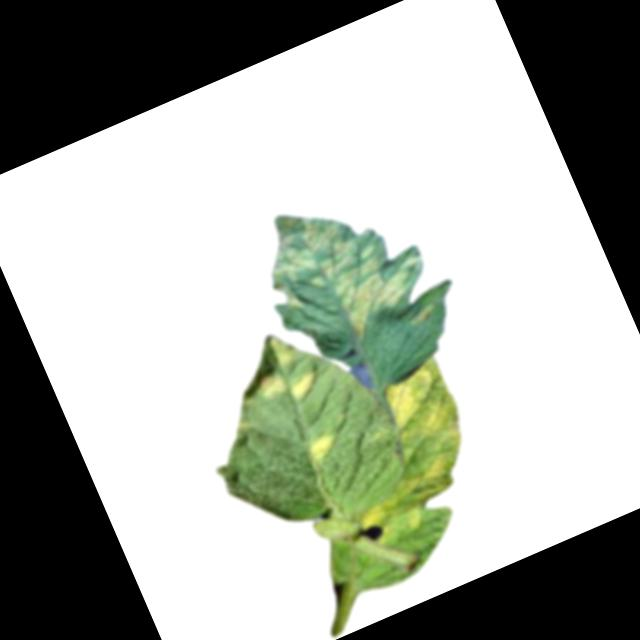Leaf_Mold: (248, 169, 443, 365), (343, 444, 485, 554), (379, 358, 473, 460), (299, 429, 345, 472), (263, 327, 302, 369), (285, 370, 323, 404), (253, 367, 290, 400)
